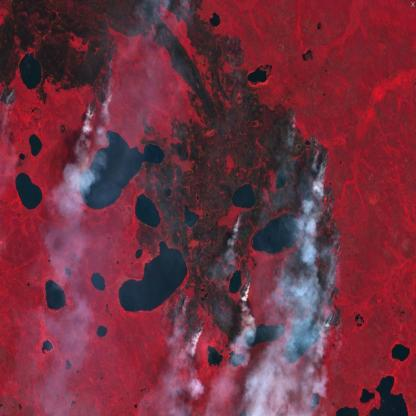fire: (304, 184, 342, 276), (167, 284, 211, 360), (83, 67, 117, 126), (313, 132, 331, 180), (0, 83, 26, 105), (287, 103, 301, 136), (240, 265, 254, 294), (237, 202, 248, 232)
